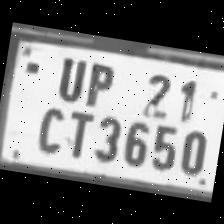0: (174, 121, 212, 177)
1: (168, 72, 202, 122)
2: (134, 66, 176, 117)
3: (88, 108, 124, 165)
5: (146, 116, 182, 172)
6: (116, 113, 154, 169)
C: (29, 99, 69, 156)
P: (79, 56, 118, 107)
T: (60, 104, 96, 160)
U: (50, 48, 89, 102)
